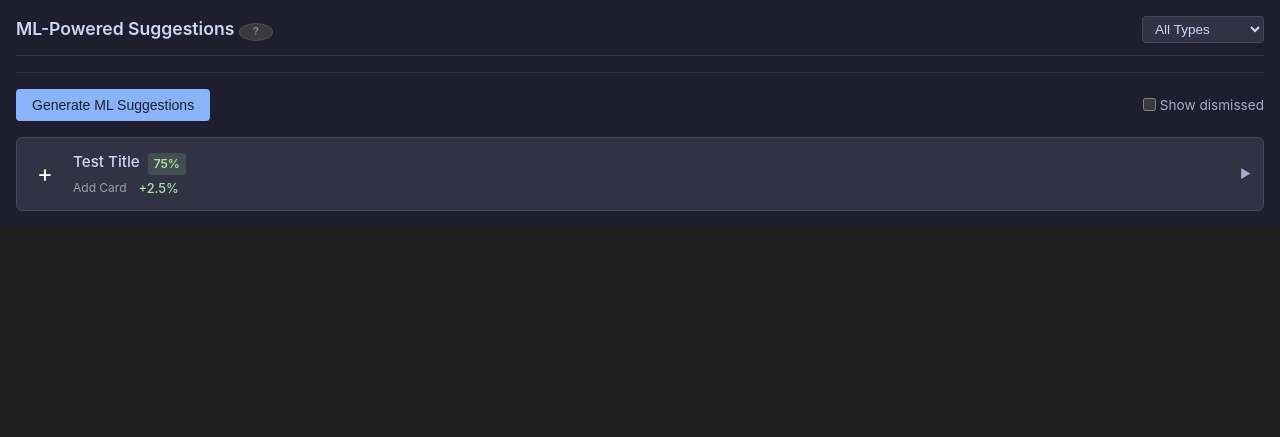
Test: MLSuggestionsPanel › Expand/Collapse › should expand suggestion to show details when clicked
This screenshot has width=1280, height=437.
Check: the text "Detailed ML description here" is not shown
Note: Click to expand
Click the heading "Test Title".
click(106, 162)  # box left=73, top=151, right=140, bottom=174
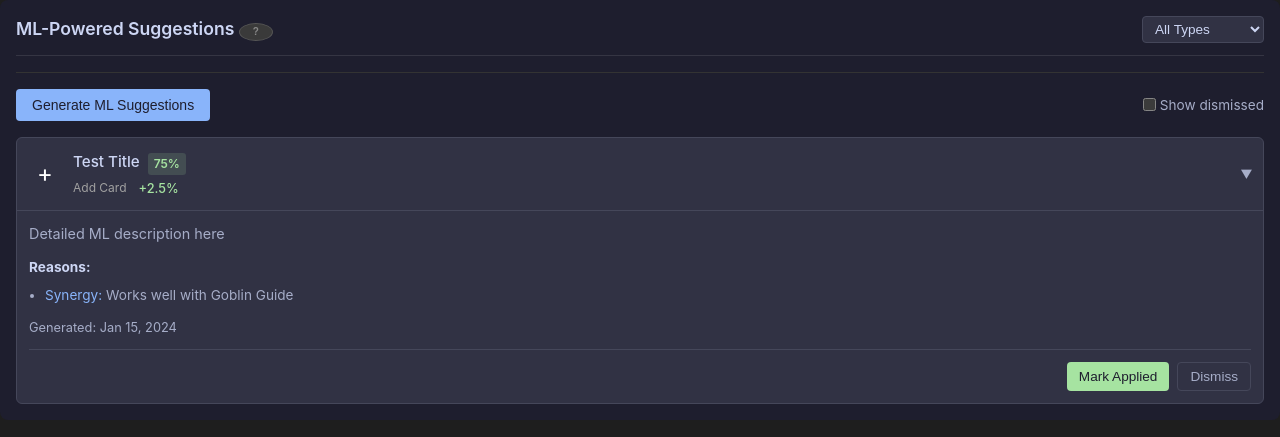
Check: the text "Detailed ML description here" is shown, box left=29, top=225, right=225, bottom=242
